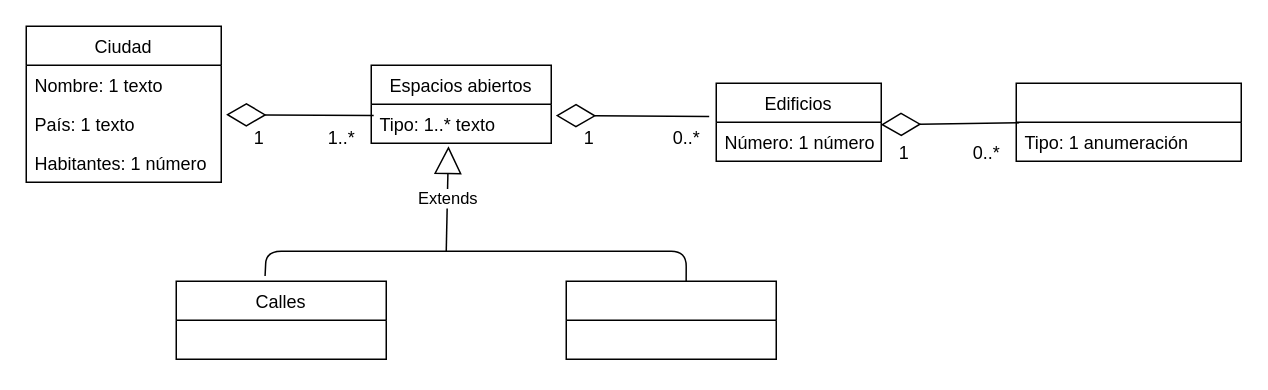
Some shapes in this 1268 by 390 pixel diagram are drawn without their labels. Here are the shapes that lost their labels. From the top down, the box of each, then its label:
(1015, 82, 1241, 161): Elementos arquitectónicos
(565, 280, 776, 359): Plazas
